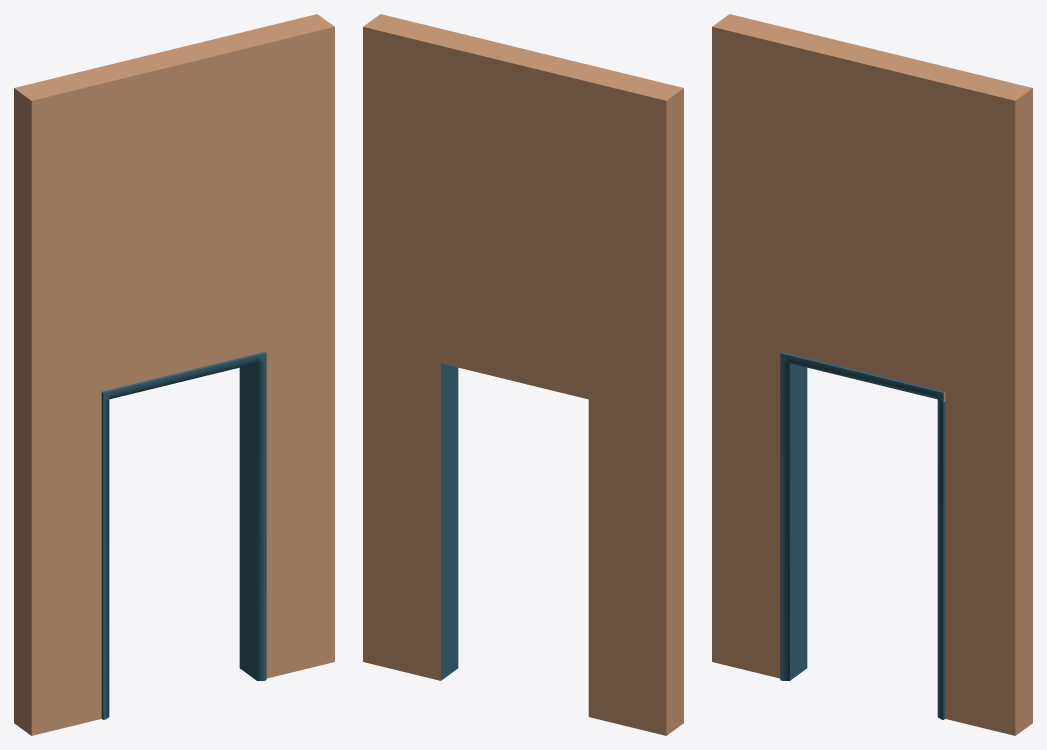
Rendered from Ka_encadrement_porte_bureau.fbx.
3 renders of one model, left to right at view 1: azimuth 30°, elevation 25°; view 2: azimuth 150°, elevation 25°; view 3: azimuth 330°, elevation 25°, orthographic.
Parts seen in each view (by area): view 1: Box003; view 2: Box003; view 3: Box003.
Part boxes in pixels (<box>): Box003: <box>14,14,334,735</box>; Box003: <box>363,14,683,735</box>; Box003: <box>712,14,1032,735</box>.
Size of the model in its own units: 78.74 by 157 by 8.66.
